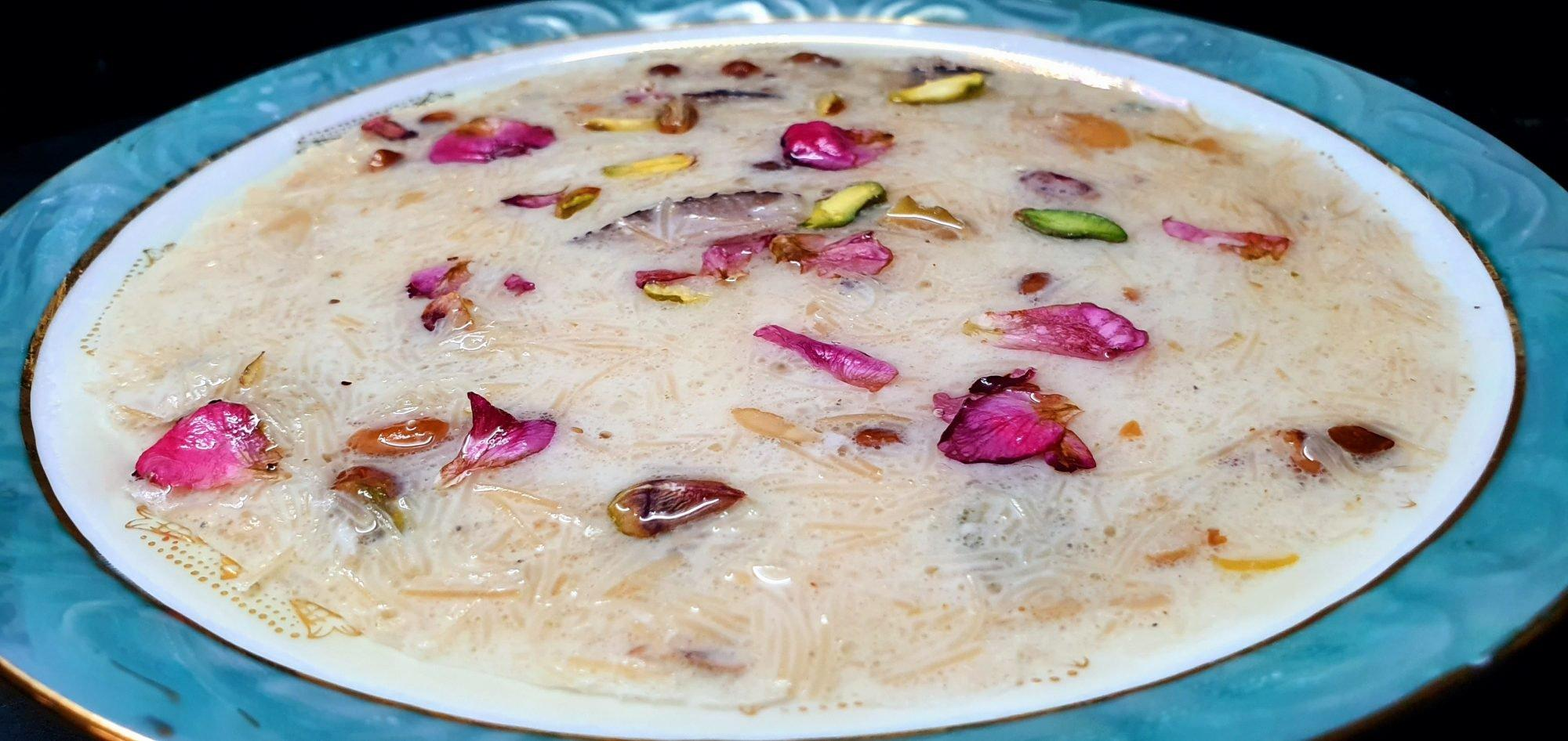kheer: (22, 47, 1568, 736)
